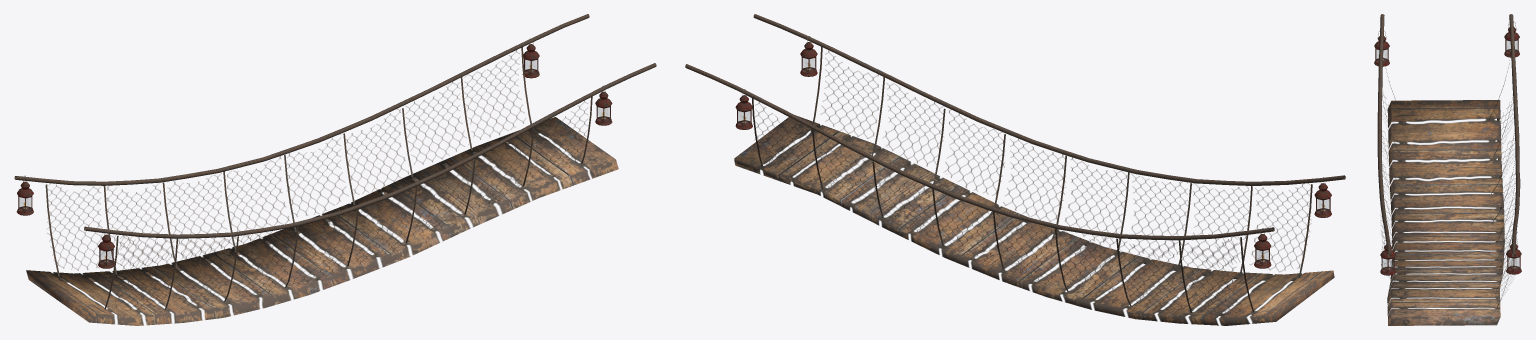
Rendered from rope_bridge1.glb.
3 renders of one model, left to right at view 1: azimuth 30°, elevation 25°; view 2: azimuth 150°, elevation 25°; view 3: azimuth 270°, elevation 25°, orthographic. The views are drawn at different scales.
Parts seen in each view (by area): view 1: bridge, light (×4); view 2: bridge, light (×4); view 3: bridge, light (×4).
Part boxes in pixels (x1,y1,x2,y2): bridge: [14, 14, 656, 325]; light (×4): [16, 38, 612, 268]; bridge: [685, 14, 1345, 325]; light (×4): [735, 36, 1331, 268]; bridge: [1377, 14, 1520, 325]; light (×4): [1374, 20, 1521, 275].
Size of the model in its own units: 2 by 0.5016 by 0.4809.
Materials: 2 (2 with a texture image).
